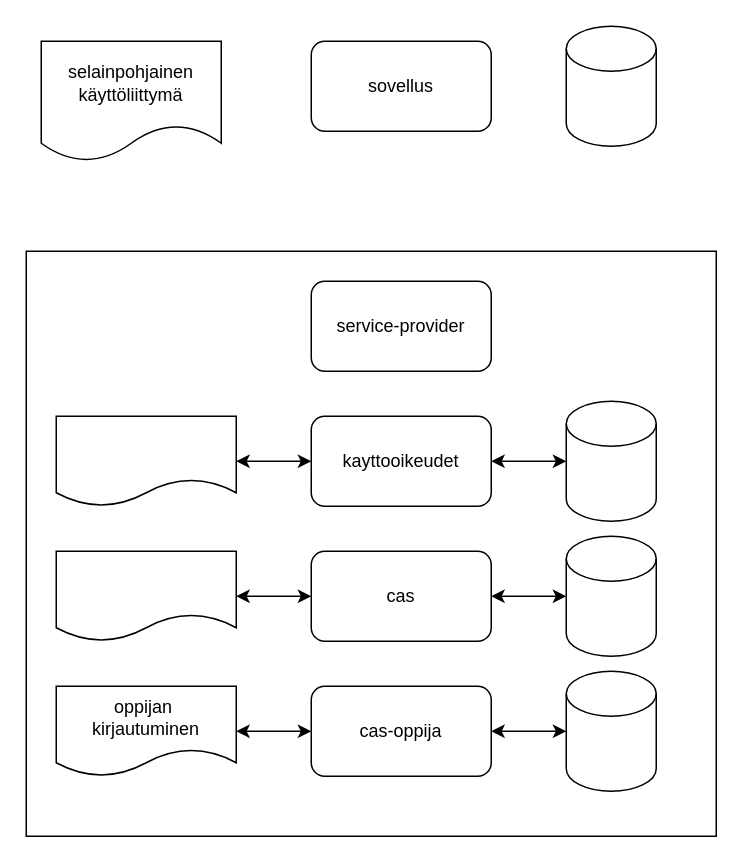
The diagram is 743 pixels wide and 863 high, and some of its shapes have lost their labels. The centre of each missing label's shape, as x and y in pixels:
"käyttöoikeuksien hallinta" goes at (145,460).
"tietokanta" goes at (610,85).
"virkailijan kirjautuminen" goes at (145,595).
